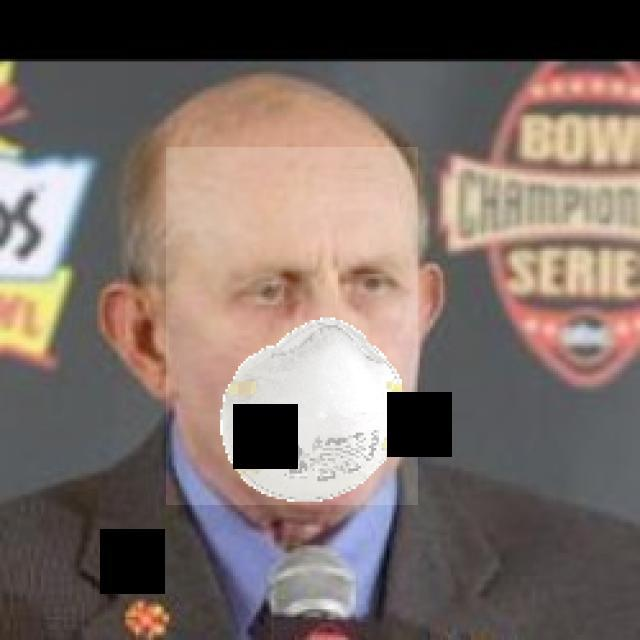n95: (166, 147, 418, 505)
